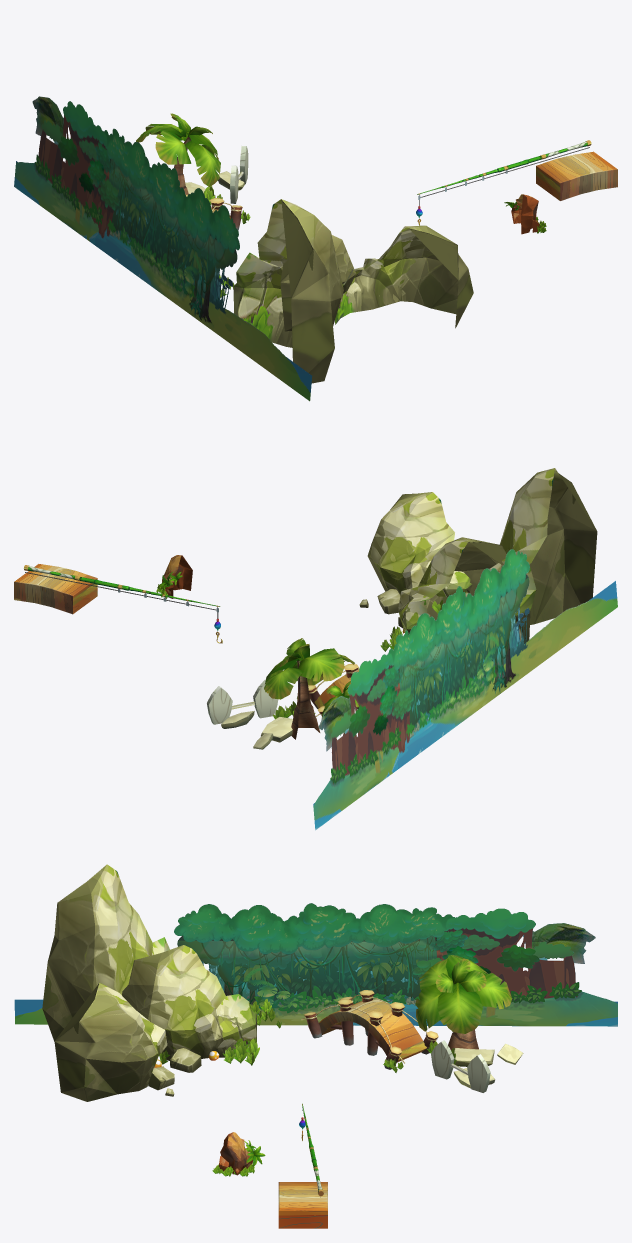
Rendered from diaoyuchangjing.FBX.
3 renders of one model, top to bottom at view 1: azimuth 30°, elevation 25°; view 2: azimuth 150°, elevation 25°; view 3: azimuth 270°, elevation 25°, orthographic. The views are drawn at different scales.
Visible parts, largest first — view 1: shupian, dashitou, yuanyeshu, mutai, diaoyugan, xiaoshitou; view 2: shupian, dashitou, yuanyeshu, mutai, diaoyugan, xiaoshitou, qiao; view 3: shupian, dashitou, yuanyeshu, qiao, mutai, xiaoshitou.
Part boxes in pixels (left/top/right/bottom): shupian: left=14, top=96, right=312, bottom=401; dashitou: left=204, top=185, right=473, bottom=383; yuanyeshu: left=136, top=113, right=248, bottom=203; mutai: left=536, top=151, right=617, bottom=200; diaoyugan: left=416, top=140, right=591, bottom=225; xiaoshitou: left=504, top=194, right=546, bottom=234; shupian: left=313, top=549, right=617, bottom=830; dashitou: left=273, top=468, right=597, bottom=718; yuanyeshu: left=207, top=638, right=358, bottom=749; mutai: left=14, top=564, right=97, bottom=614; diaoyugan: left=24, top=565, right=222, bottom=643; xiaoshitou: left=156, top=555, right=192, bottom=598; qiao: left=308, top=664, right=359, bottom=716; shupian: left=14, top=903, right=617, bottom=1026; dashitou: left=42, top=864, right=456, bottom=1101; yuanyeshu: left=415, top=955, right=523, bottom=1092; qiao: left=301, top=990, right=438, bottom=1069; mutai: left=278, top=1182, right=327, bottom=1228; xiaoshitou: left=212, top=1132, right=265, bottom=1176.
Size of what is drawn, in the model's own units: 479 by 179 by 562.
